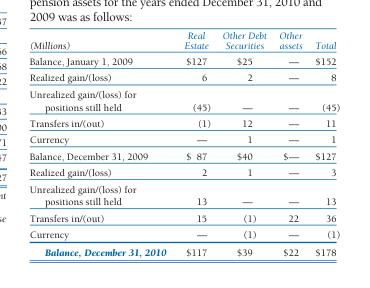table: (28, 29, 339, 257)
table column: (28, 29, 174, 257), (215, 29, 272, 257), (174, 29, 215, 257), (272, 29, 307, 257), (307, 29, 339, 257)
table column header: (28, 29, 339, 52)
table row: (28, 85, 339, 114), (28, 180, 339, 209), (28, 29, 339, 52), (28, 52, 339, 69), (28, 114, 339, 131), (28, 147, 339, 164), (28, 225, 339, 242), (28, 69, 339, 85), (28, 131, 339, 147), (28, 164, 339, 180), (28, 209, 339, 225), (28, 242, 339, 257)
